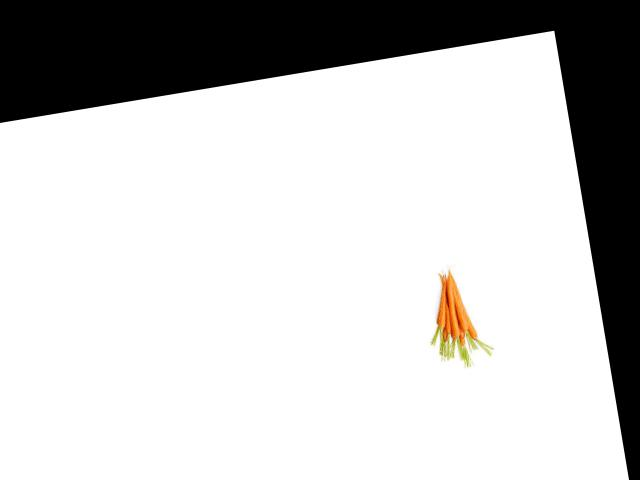carrot: (425, 276, 457, 332)
